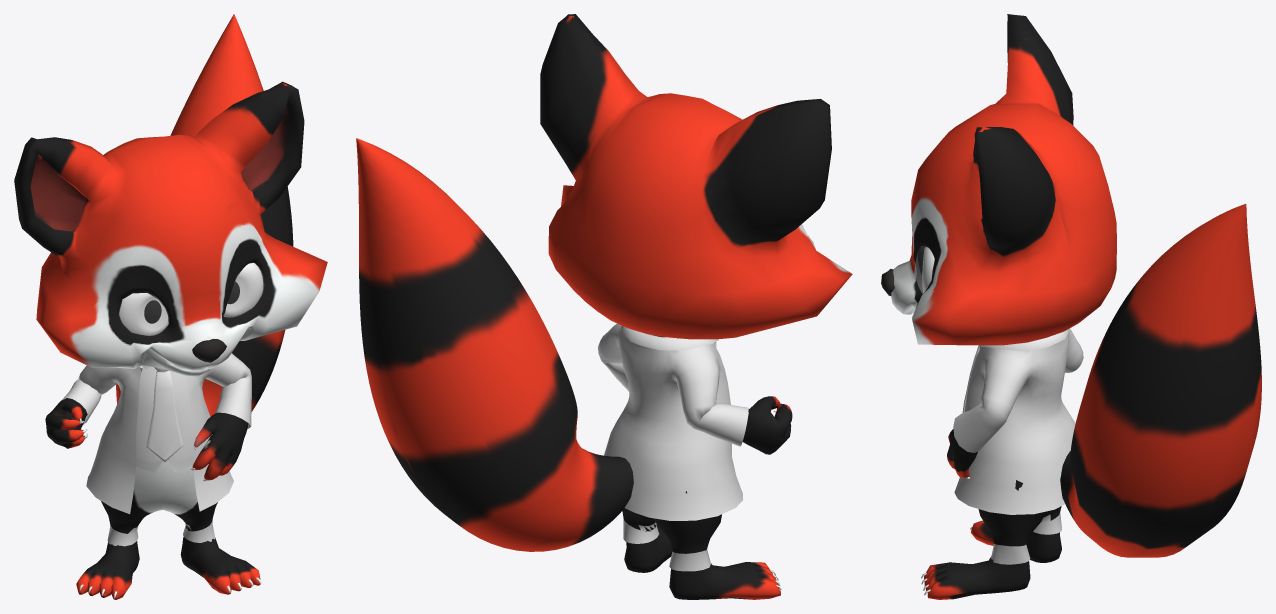
Rendered from atovix.glb.
The picture shows the model from 3 angles, left to right: view 1: azimuth 30°, elevation 25°; view 2: azimuth 150°, elevation 25°; view 3: azimuth 270°, elevation 25°; orthographic projection. The views are drawn at different scales.
Visible parts, largest first — view 1: Body, Suit, Tail, Shirt, Eye.002, Eye, Shirt.001, Pants, Nose; view 2: Body, Tail, Suit, Pants; view 3: Body, Tail, Suit, Pants, Eye.002.
Part boxes in pixels (bbox=[...]): Body: bbox=[14, 81, 327, 599]; Suit: bbox=[61, 353, 251, 514]; Tail: bbox=[116, 14, 293, 416]; Shirt: bbox=[116, 365, 193, 472]; Eye.002: bbox=[119, 263, 263, 335]; Eye: bbox=[119, 263, 263, 335]; Shirt.001: bbox=[146, 367, 183, 461]; Pants: bbox=[107, 518, 214, 546]; Nose: bbox=[192, 339, 226, 362]; Body: bbox=[540, 14, 852, 599]; Tail: bbox=[356, 138, 633, 551]; Suit: bbox=[598, 323, 748, 520]; Pants: bbox=[623, 518, 710, 571]; Body: bbox=[891, 14, 1116, 599]; Tail: bbox=[1060, 204, 1261, 557]; Suit: bbox=[953, 328, 1083, 514]; Pants: bbox=[990, 512, 1061, 564]; Eye.002: bbox=[915, 246, 934, 293].
Bounding box in the file's own units: 5 × 6.66 × 4.6.
10 materials, 2 textured.
